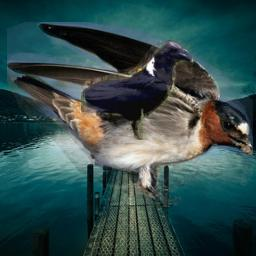Crow: (81, 40, 194, 140)
Swallow: (7, 22, 253, 207)
